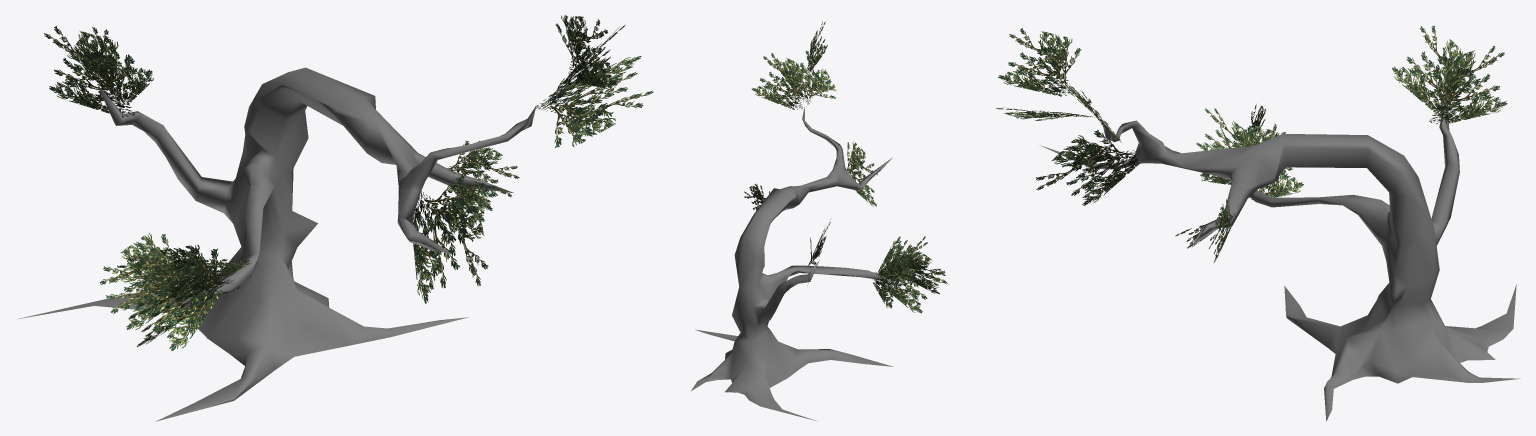
Rendered from exotictree_lod2.fbx.
3 views of the same model, side by side, from view 1: azimuth 30°, elevation 25°; view 2: azimuth 150°, elevation 25°; view 3: azimuth 270°, elevation 25° (orthographic). The views are drawn at different scales.
Visible parts, largest first — view 1: Default_Layer; view 2: Default_Layer; view 3: Default_Layer.
Part boxes in pixels (x1,y1,x2,y2): Default_Layer: (17,15,653,421); Default_Layer: (691,21,948,420); Default_Layer: (995,26,1520,421).
Bounding box in the file's own units: 1157 × 1132 × 1439.
